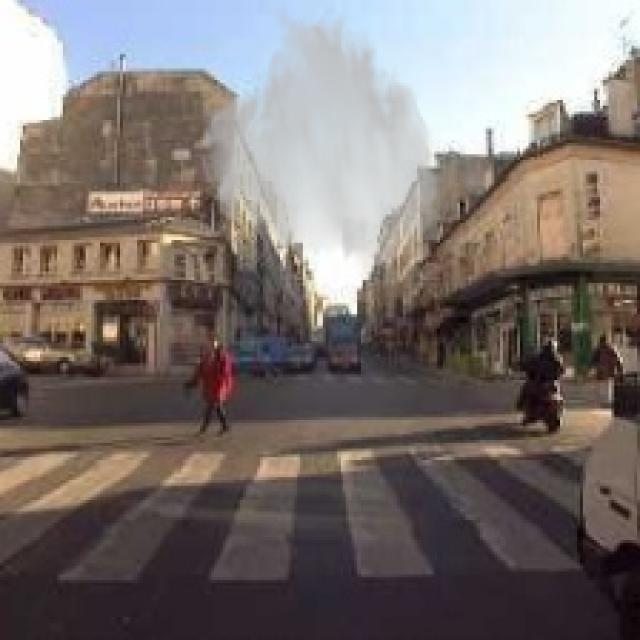Smoke: (197, 2, 443, 274)
